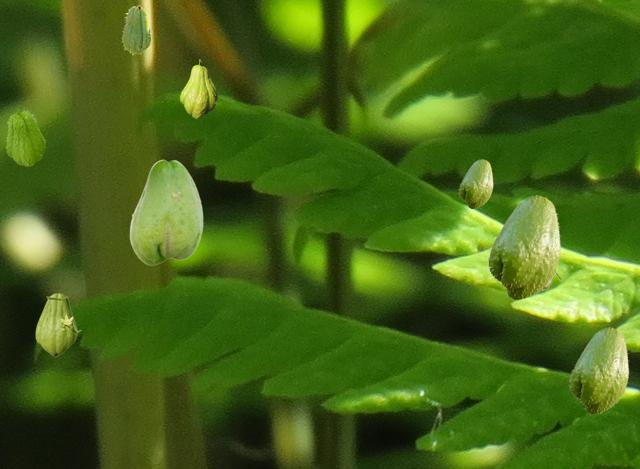sayote: (486, 195, 560, 300), (129, 159, 202, 264), (568, 327, 628, 414), (35, 293, 80, 356), (5, 107, 45, 165), (180, 59, 216, 117), (458, 159, 492, 208), (121, 5, 151, 54)
